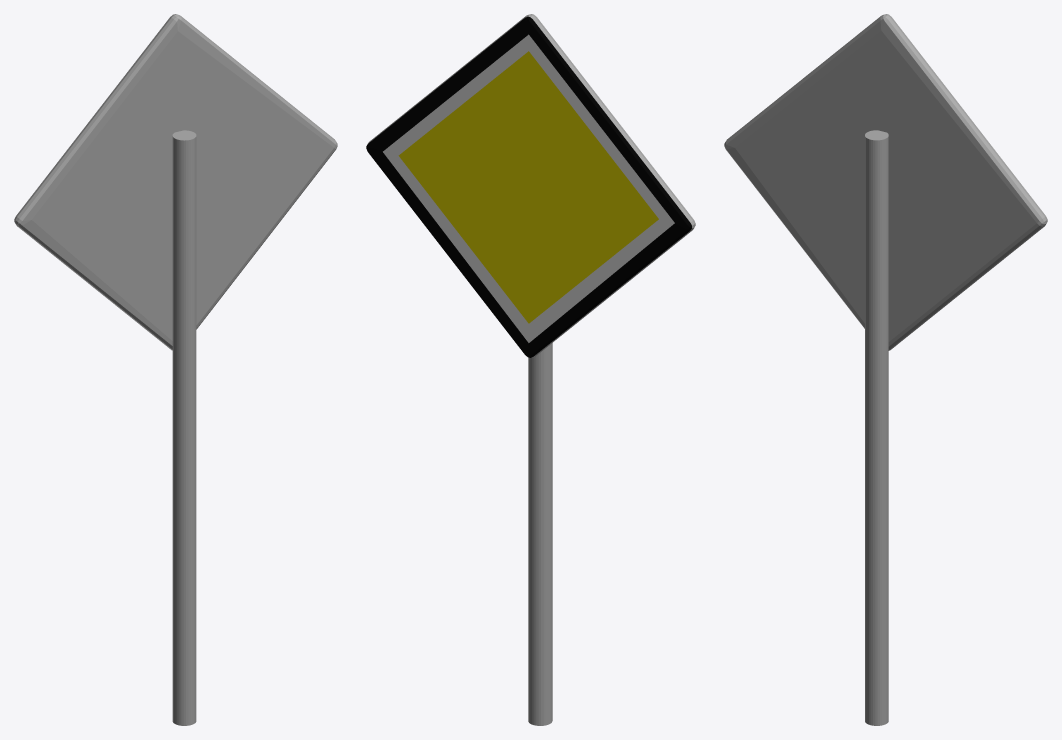
Rendered from priority sign.fbx.
The picture shows the model from 3 angles, left to right: view 1: azimuth 30°, elevation 25°; view 2: azimuth 150°, elevation 25°; view 3: azimuth 330°, elevation 25°; orthographic projection.
Visible parts, largest first — view 1: Cube.001, Cylinder; view 2: Cube.001, Cylinder; view 3: Cube.001, Cylinder.
Part boxes in pixels (left/top/right/bottom): Cube.001: left=14, top=14, right=337, bottom=350; Cylinder: left=172, top=130, right=196, bottom=725; Cube.001: left=366, top=14, right=695, bottom=357; Cylinder: left=528, top=343, right=552, bottom=725; Cube.001: left=724, top=14, right=1047, bottom=350; Cylinder: left=865, top=130, right=888, bottom=725.
Bounding box in the file's own units: 278 × 579 × 27.51.
